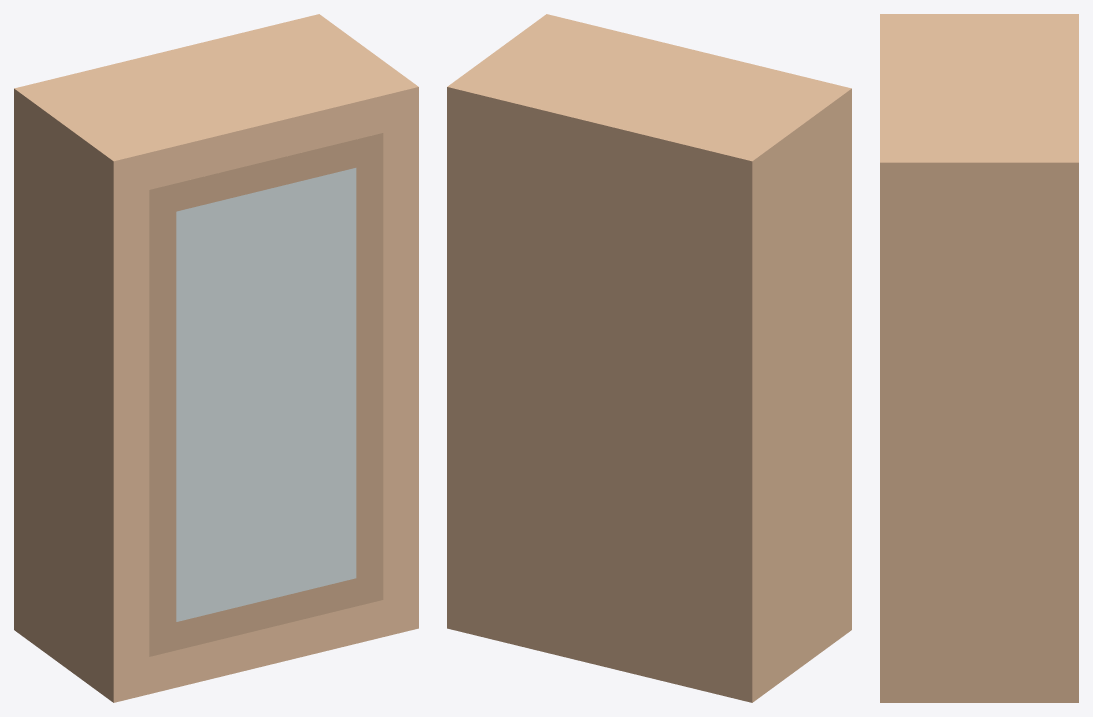
Rendered from bathroomcabinet.glb.
3 renders of one model, left to right at view 1: azimuth 30°, elevation 25°; view 2: azimuth 150°, elevation 25°; view 3: azimuth 270°, elevation 25°, orthographic.
Visible parts, largest first — view 1: Mesh bathroomCabinet, door; view 2: Mesh bathroomCabinet; view 3: Mesh bathroomCabinet.
Boxes of the visible parts, x1,y1,x2,y2 form: Mesh bathroomCabinet: (14,14,418,702); door: (149,133,383,656); Mesh bathroomCabinet: (447,14,851,702); Mesh bathroomCabinet: (880,14,1078,702).
Size of the model in its own units: 0.23 by 0.39 by 0.13.
